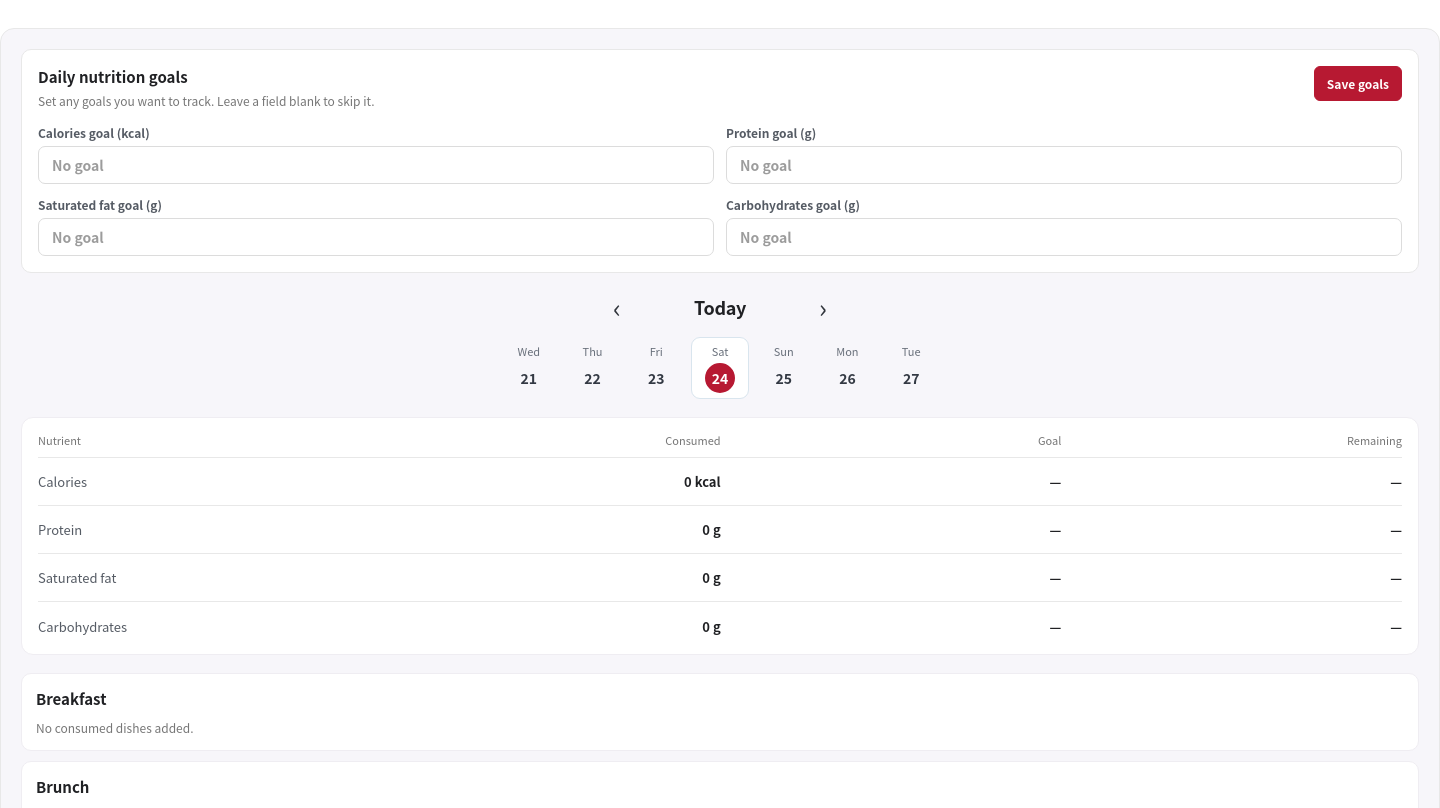
Scenario: NutritionTracker › rejects negative nutrition goals
Type "-1" into the number field named "Calories goal in kcal" at (376, 165), box [38, 146, 714, 184]
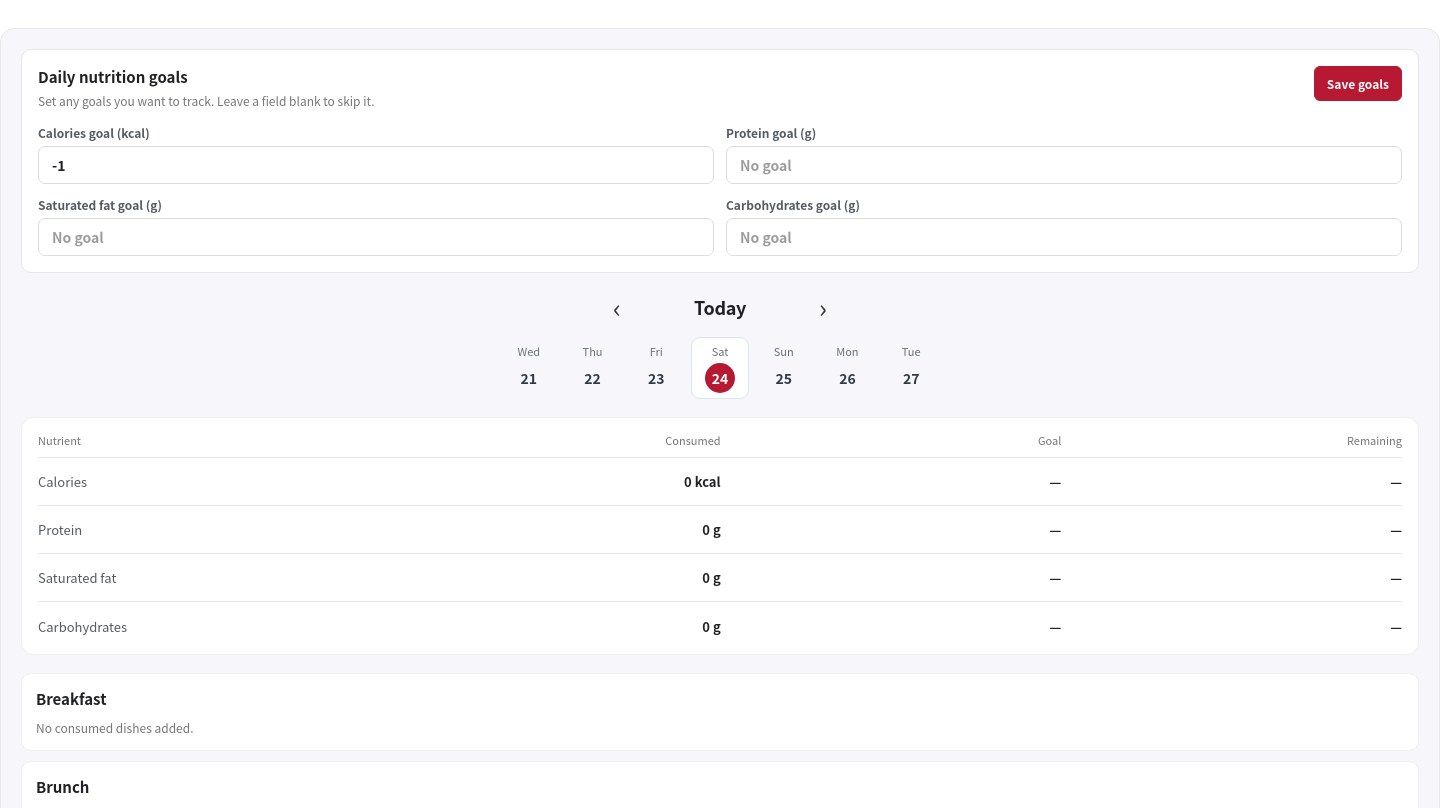
Submit the form with class "nutrition-goal-settings", box [21, 49, 1419, 273]
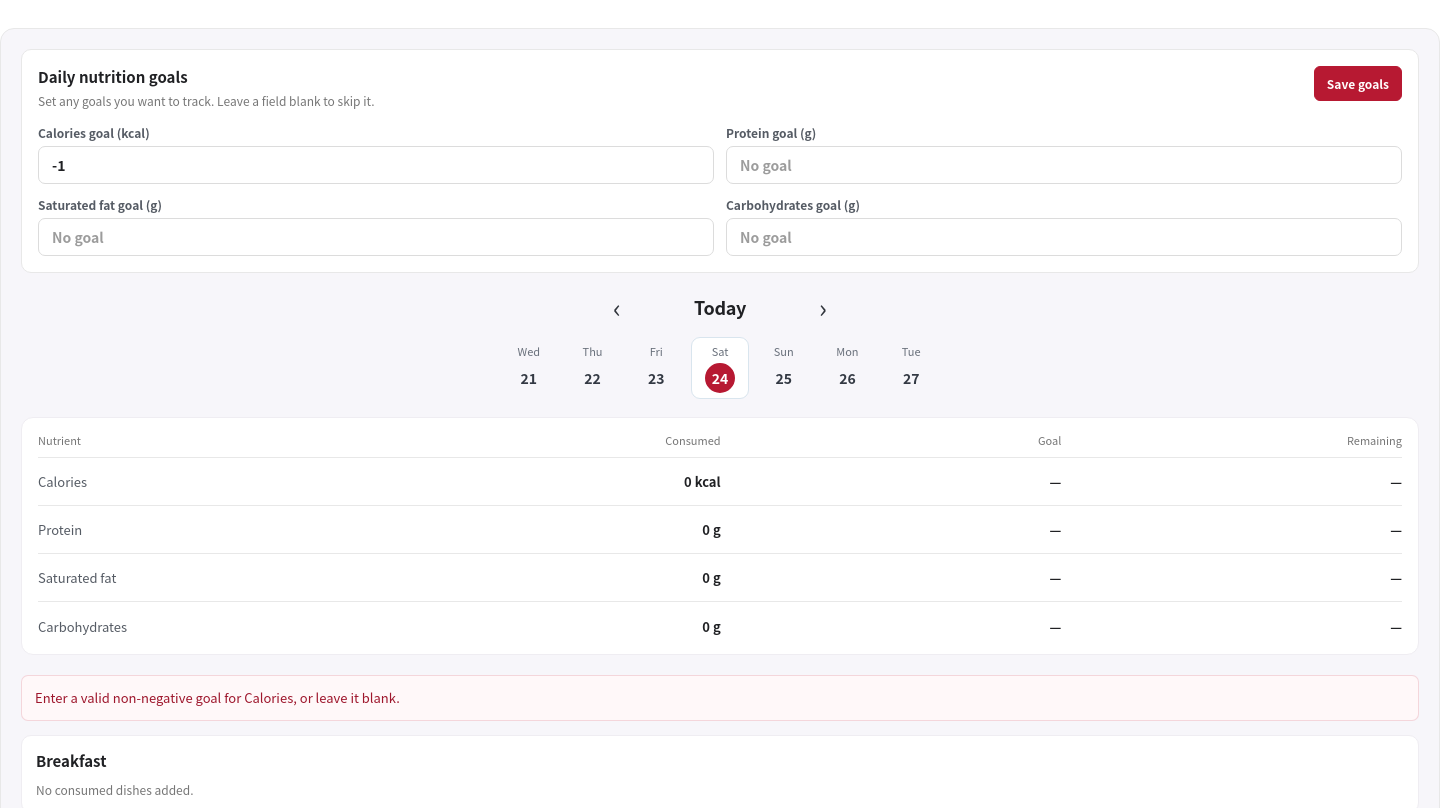
Result: the message "Enter a valid non-negative goal for Calories, or leave it blank." is shown at [21, 675, 1419, 721]
